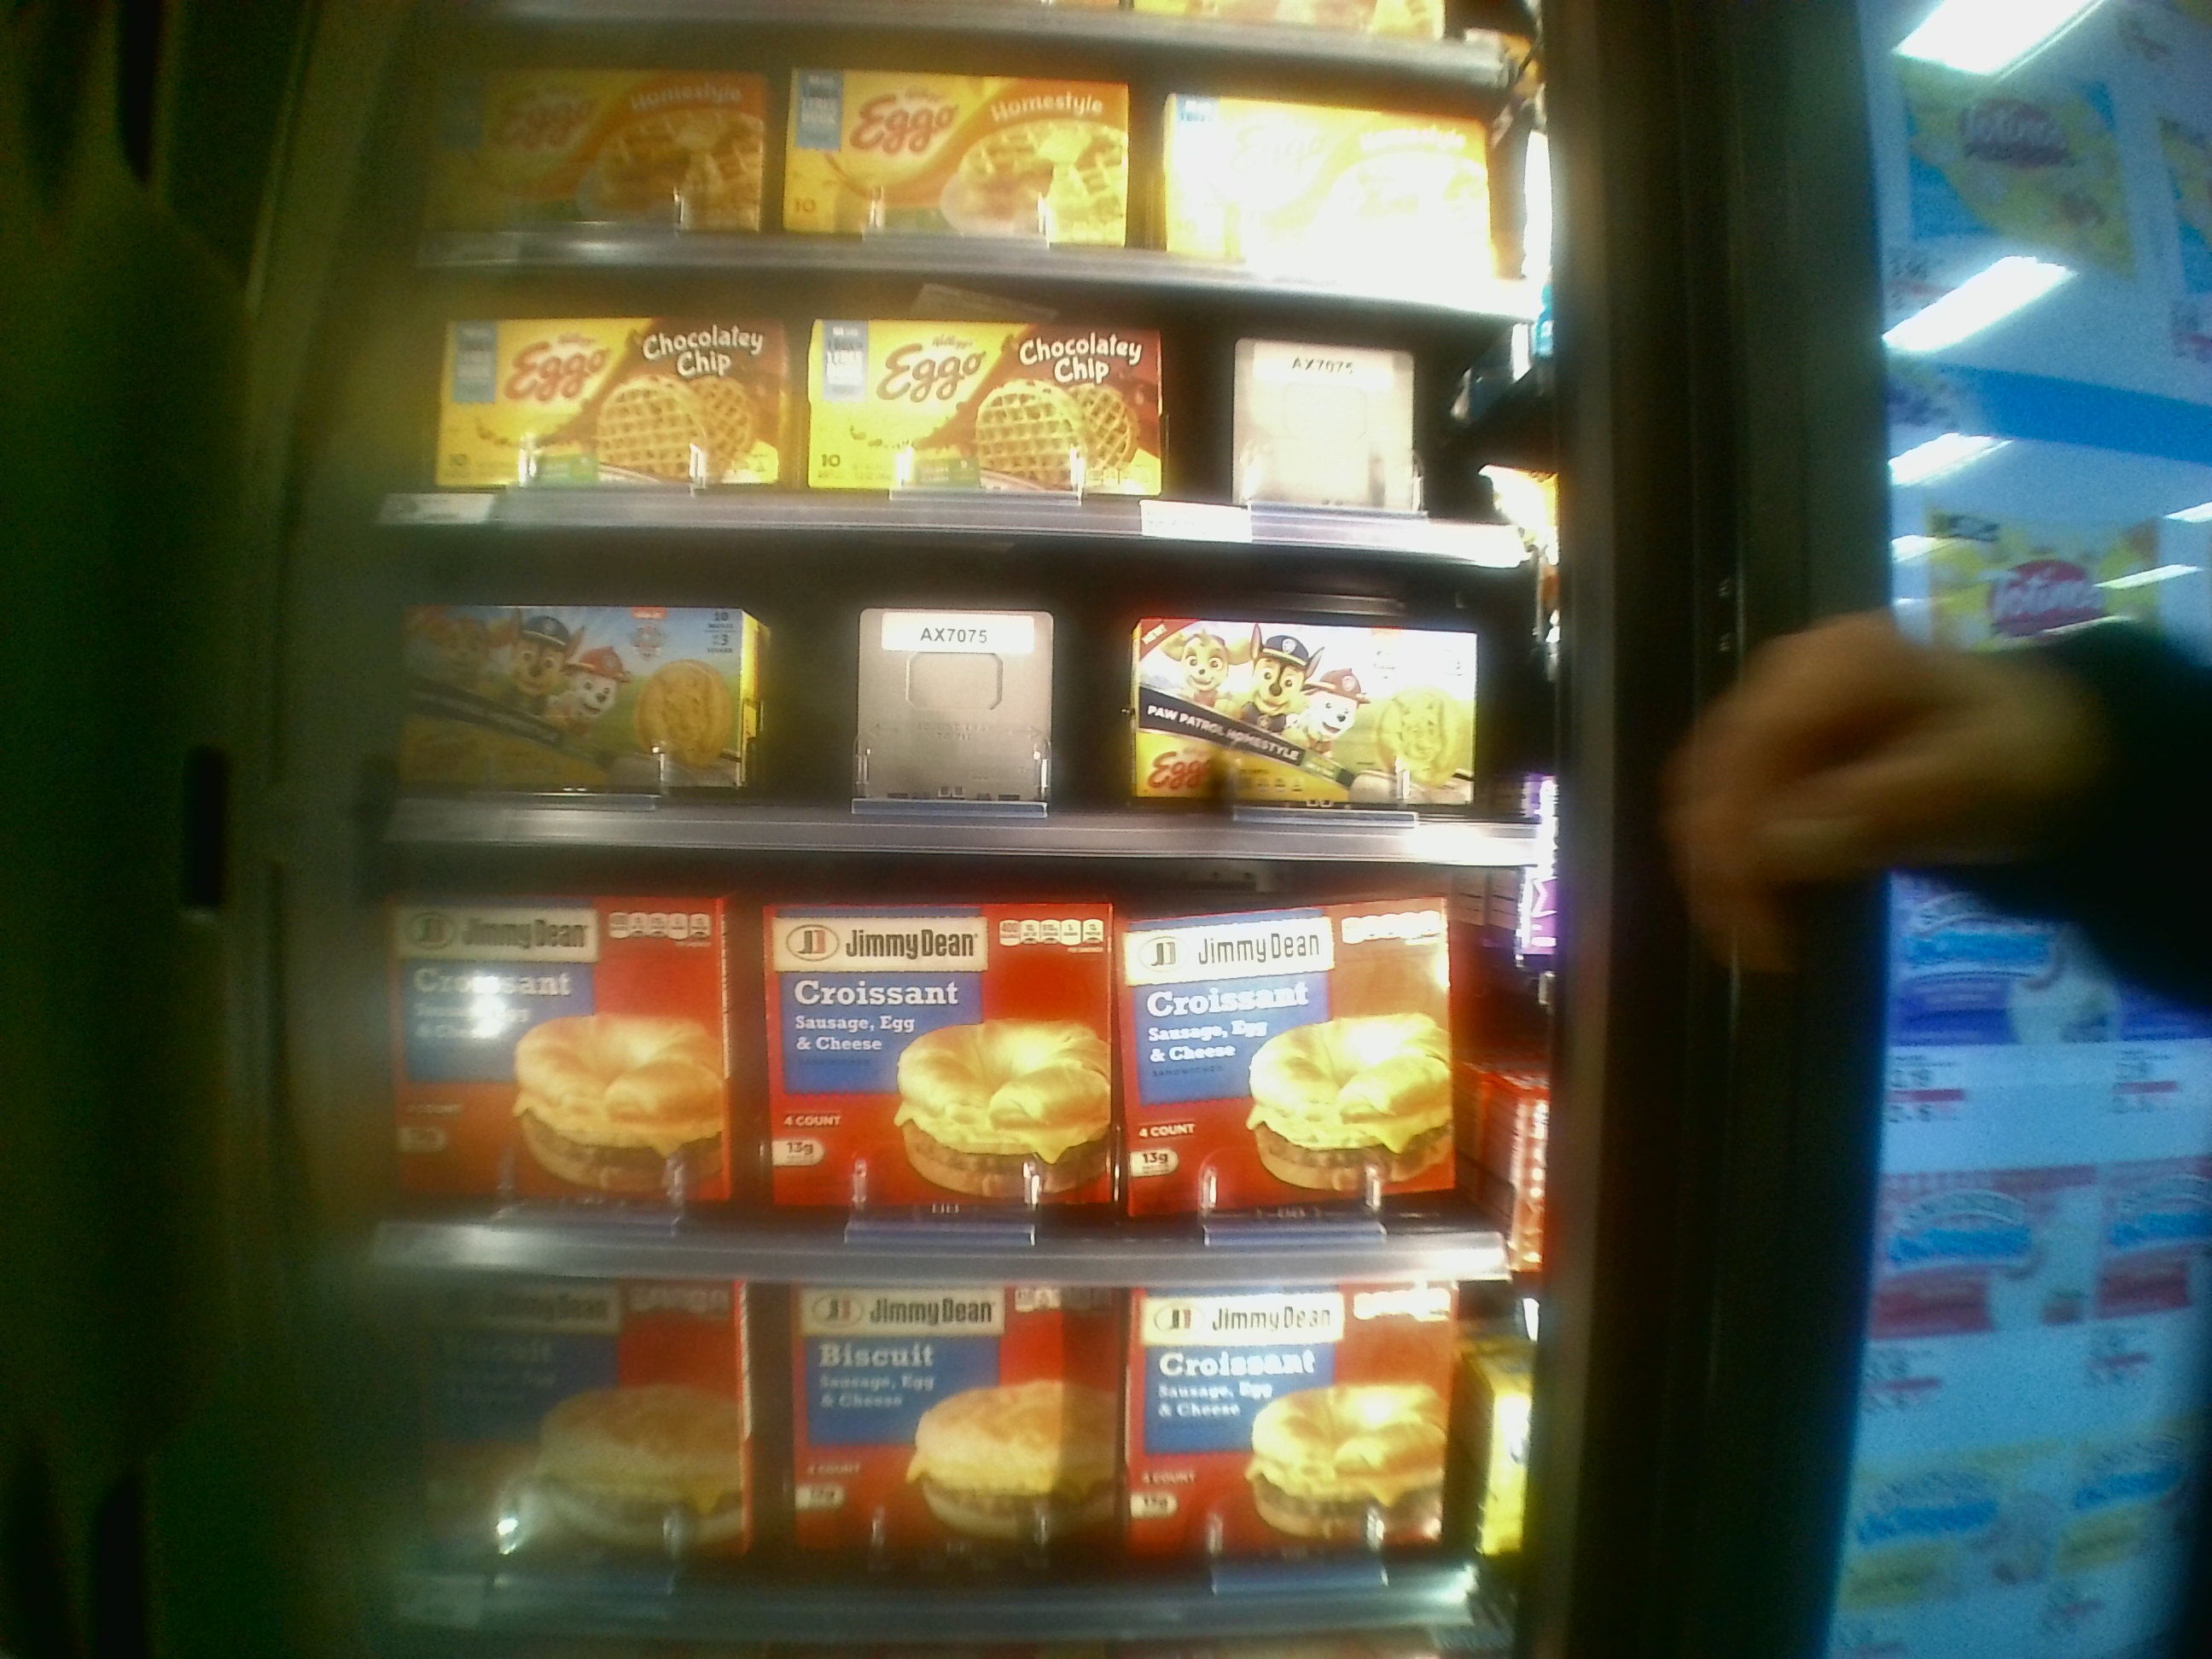shelf: (366, 831, 1531, 1274), (350, 544, 1534, 857), (374, 268, 1522, 542)
